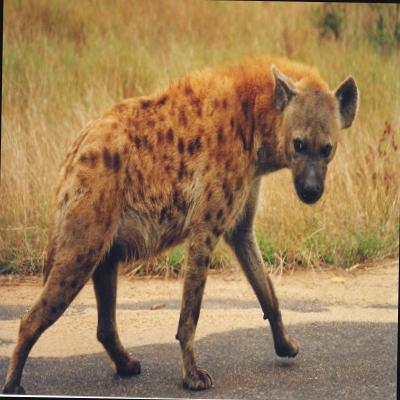hyenas: (0, 31, 388, 394)
